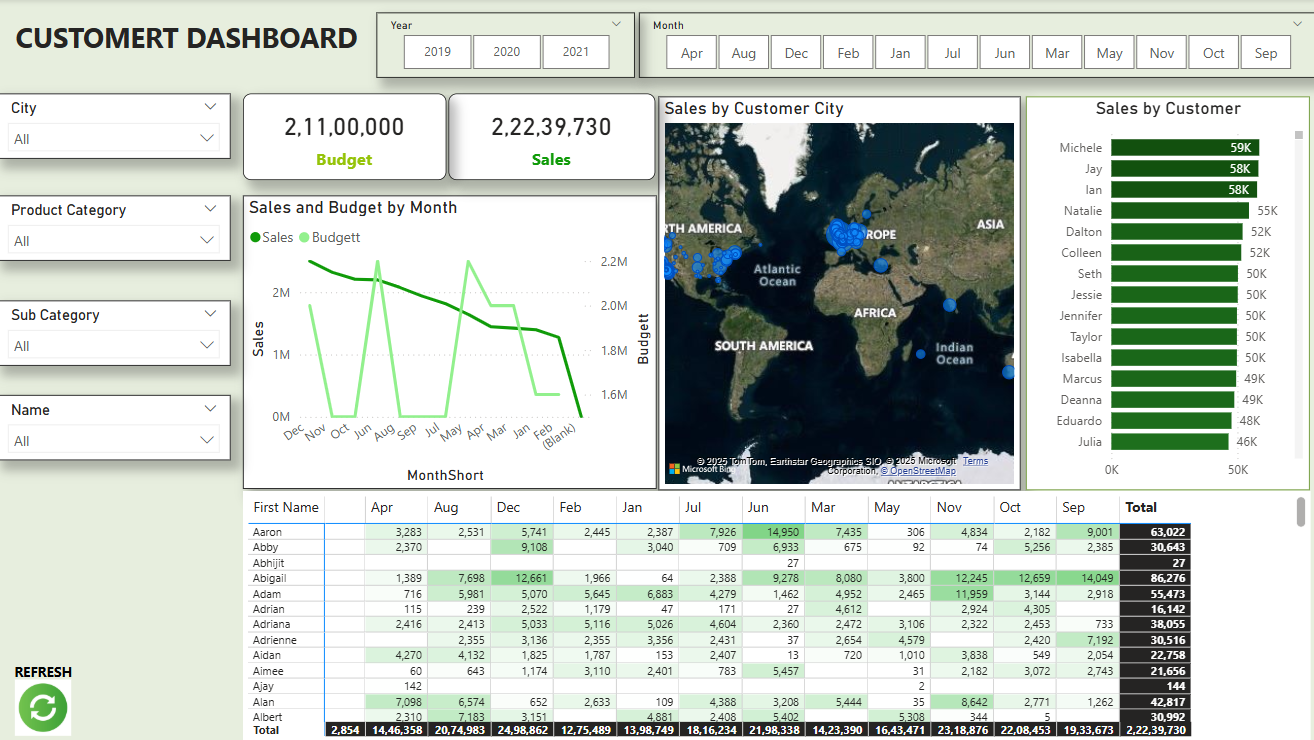

This screenshot's page, from the dashboard's own definition file:
{"tool":"powerbi","page":{"name":"CUSTOMERS","canvas":[1280,720],"ordinal":2},"visuals":[{"type":"textbox","box":[0,13,367.6,51.8],"z":0},{"type":"slicer","fields":{"Values":["DIM_Calendar.Year"]},"box":[367.6,13,251,63.1],"z":1000},{"type":"slicer","fields":{"Values":["DIM_Calendar.MonthShort"]},"box":[623.4,13,657.4,63.1],"z":2000},{"type":"lineChart","title":"Sales and Budget by Month","fields":{"Category":["DIM_Calendar.MonthShort"],"Y":["Metrics.Sales"],"Y2":["Metrics.Budgett"]},"box":[238,191.1,401.6,285],"z":3000},{"type":"map","fields":{"Category":["DIM_Customers.Customer City"],"Size":["Metrics.Sales"]},"box":[641.2,93.9,351.4,382.1],"z":4000},{"type":"barChart","title":"Sales by  Customer","fields":{"Y":["Metrics.Sales"],"Category":["DIM_Customers.First Name"]},"box":[999.1,93.9,275.3,382.1],"z":5000},{"type":"slicer","fields":{"Values":["DIM_Customers.Customer City"]},"box":[0,92.3,226.7,63.1],"z":6000},{"type":"slicer","fields":{"Values":["DIM_Products.Product Category"]},"box":[0,191.1,226.7,63.1],"z":7000},{"type":"slicer","fields":{"Values":["DIM_Products.Sub Category"]},"box":[0,293.1,226.7,63.1],"z":8000},{"type":"slicer","fields":{"Values":["DIM_Customers.First Name"]},"box":[0,383.8,226.7,63.1],"z":9000},{"type":"card","fields":{"Values":["Metrics.Sales"]},"box":[438.8,92.3,200.8,84.2],"z":10000},{"type":"card","fields":{"Values":["Metrics.Budgett"]},"box":[238,92.3,197.5,84.2],"z":11000},{"type":"pivotTable","fields":{"Rows":["DIM_Customers.First Name"],"Columns":["DIM_Calendar.MonthShort"],"Values":["Metrics.Sales"]},"box":[238,477.7,1036.3,242.9],"z":12000},{"type":"image","box":[0,655.2,89.1,64.8],"z":13000},{"type":"textbox","box":[11.3,638,77.7,34],"z":14000}]}

Visuals, with their boxes in screenshot pixels (x1, y1, x2, y2), scaled from the page's 1280x720 canvas onto the 1314x740 screenshot:
textbox: [0,13,377,67]
slicer - DIM_Calendar.Year: [377,13,635,78]
slicer - DIM_Calendar.MonthShort: [640,13,1313,78]
"Sales and Budget by Month" lineChart: [244,196,657,489]
map - DIM_Customers.Customer City x Metrics.Sales: [658,97,1019,489]
"Sales by  Customer" barChart: [1026,97,1308,489]
slicer - DIM_Customers.Customer City: [0,95,233,160]
slicer - DIM_Products.Product Category: [0,196,233,261]
slicer - DIM_Products.Sub Category: [0,301,233,366]
slicer - DIM_Customers.First Name: [0,394,233,459]
card - Metrics.Sales: [450,95,657,181]
card - Metrics.Budgett: [244,95,447,181]
pivotTable - DIM_Customers.First Name x DIM_Calendar.MonthShort: [244,491,1308,739]
image: [0,673,91,739]
textbox: [12,656,91,691]
